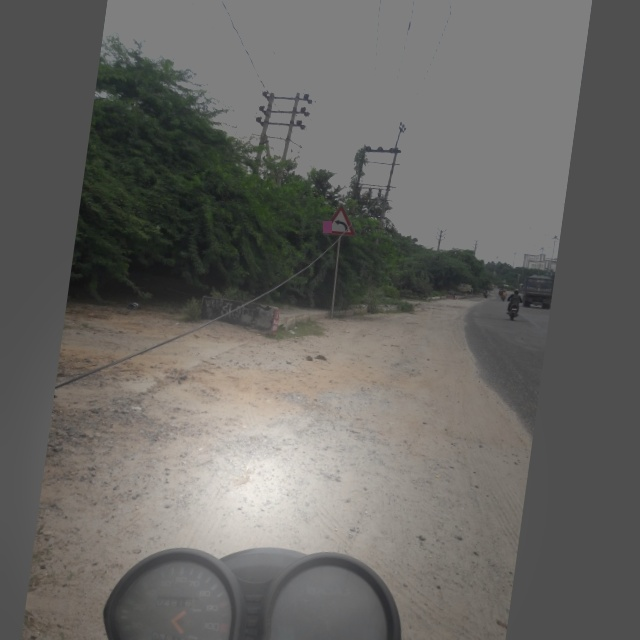Left_Hand_Curve: (322, 203, 359, 240)
